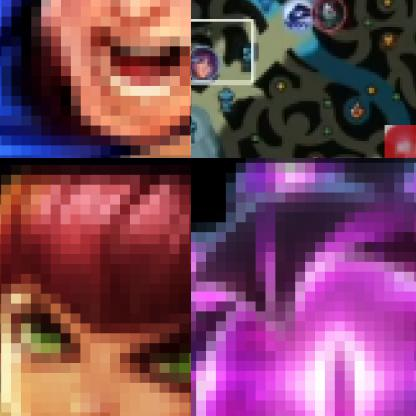Akali: (312, 0, 348, 32)
Annie: (0, 158, 190, 415)
Garen: (0, 0, 190, 157)
Lillia: (191, 46, 221, 84)
Vel-koz: (191, 158, 415, 415)
Xerath: (280, 0, 318, 35)
